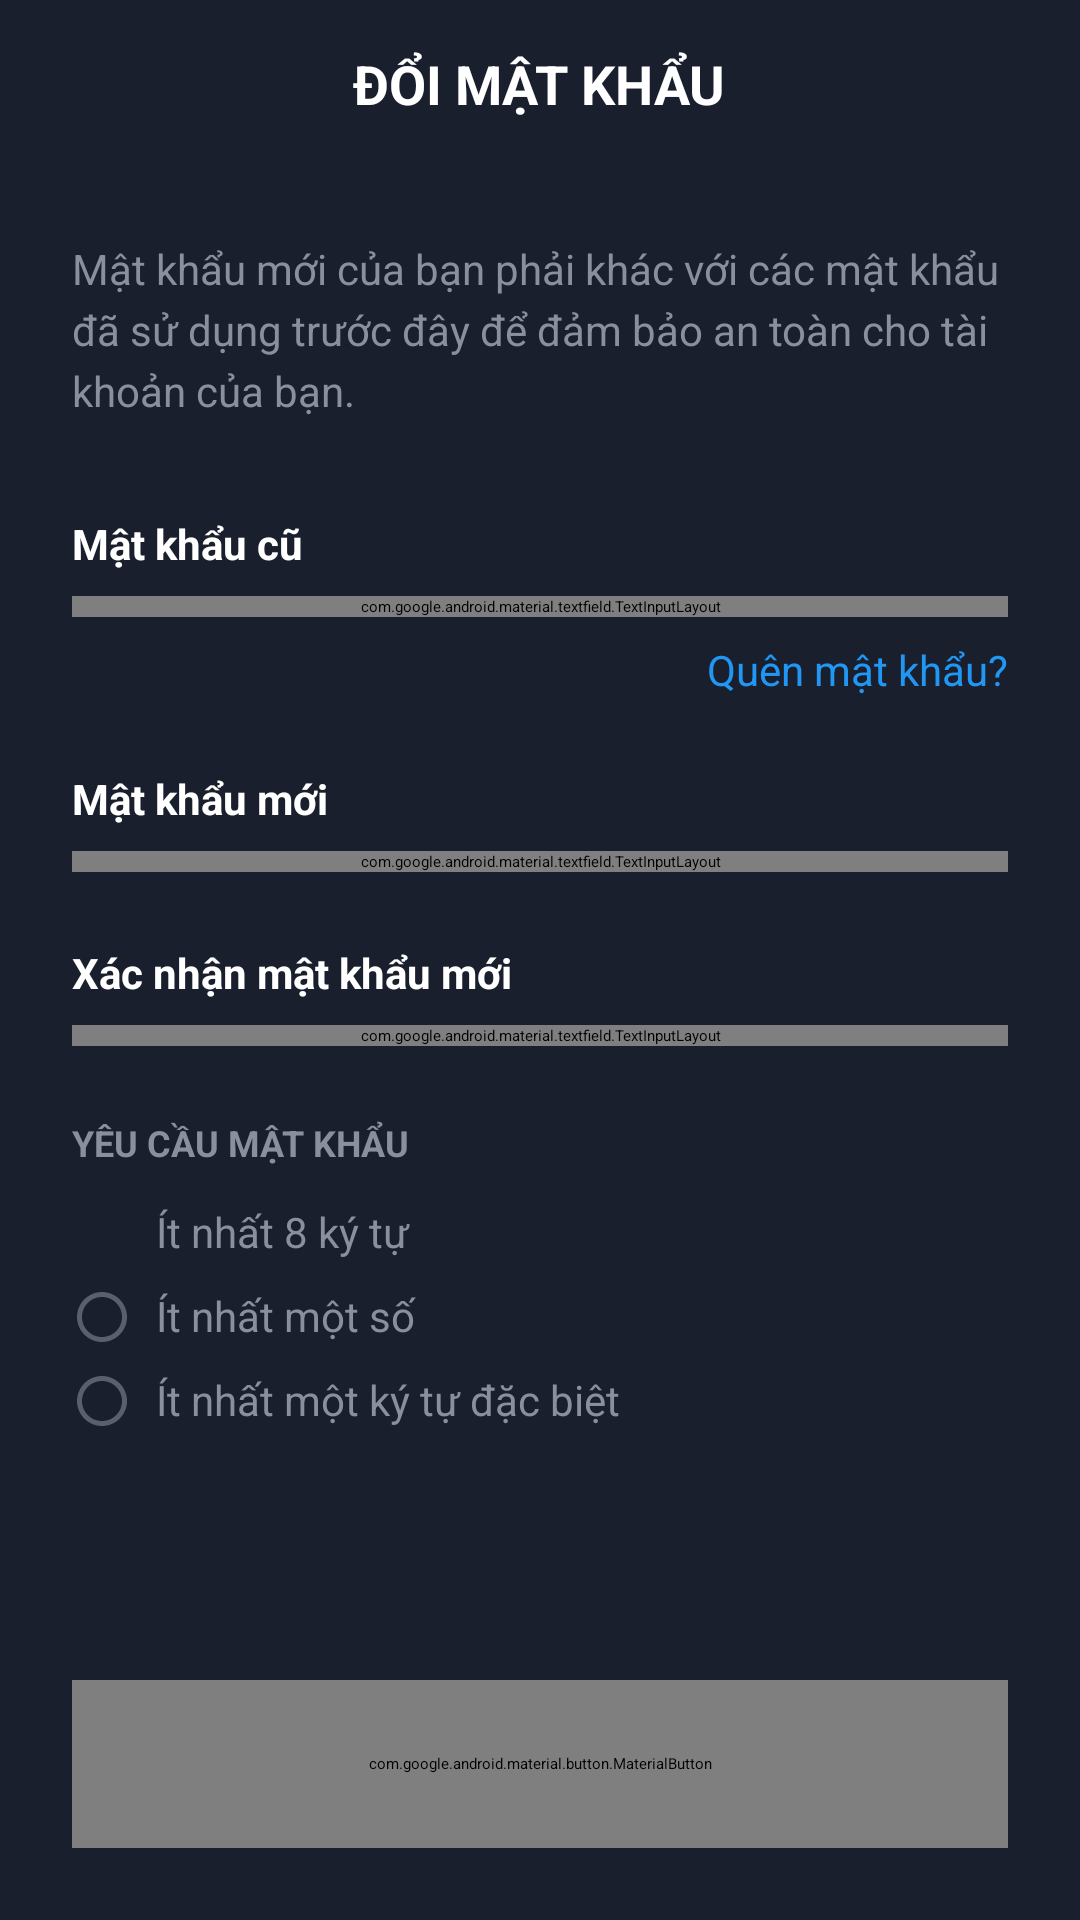

Where to tap for icons on this 1080w x 1920h app screen, as (x=x, y=y):
circle: (x=102, y=1317), (x=102, y=1401)
